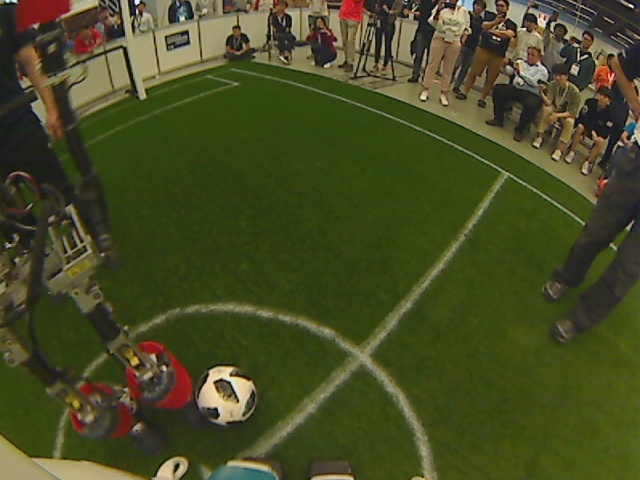ball: (192, 362, 262, 429)
